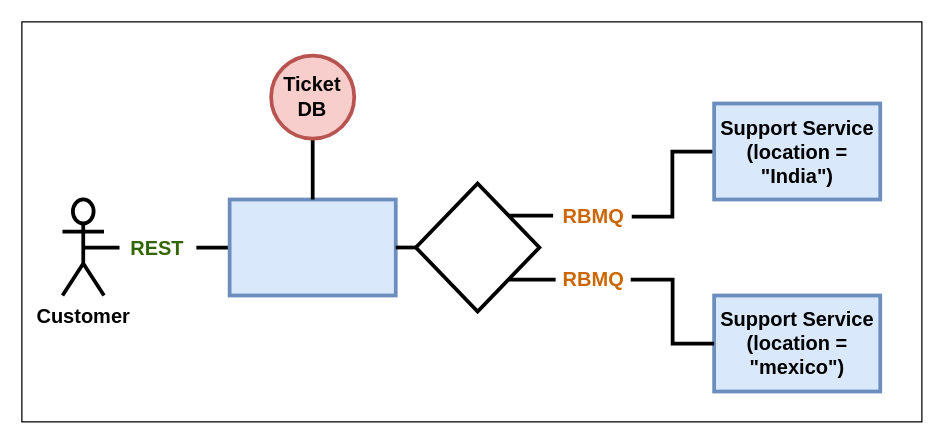
This 944x444 diagram has some shape labels left out. Each missing label, with the box of its shape:
check local time: (413, 181, 541, 313)
Ticket Service: (227, 197, 397, 297)
